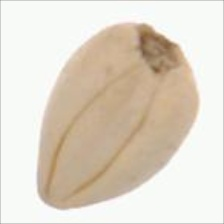L5: (46, 66, 160, 200), (131, 22, 190, 72)
L6: (34, 20, 201, 210)
